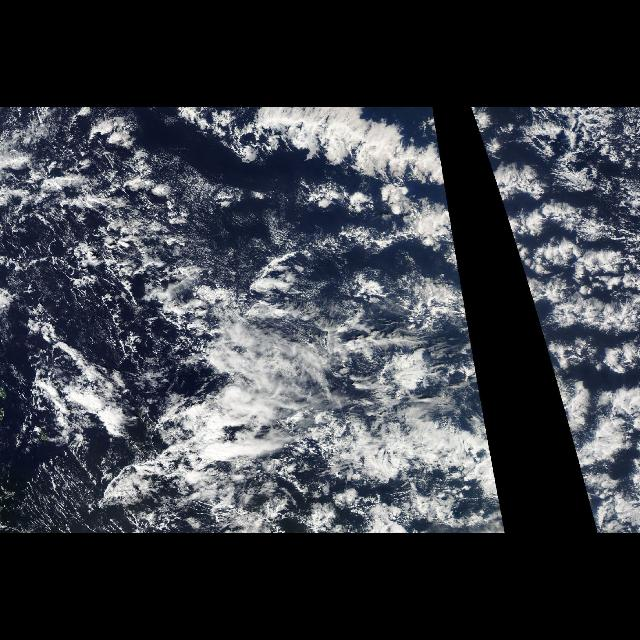Fish: (230, 264, 498, 492)
Flower: (236, 108, 480, 378), (470, 107, 640, 383)
Gravel: (3, 109, 225, 442)
Sugar: (180, 167, 300, 269), (2, 453, 92, 533)
